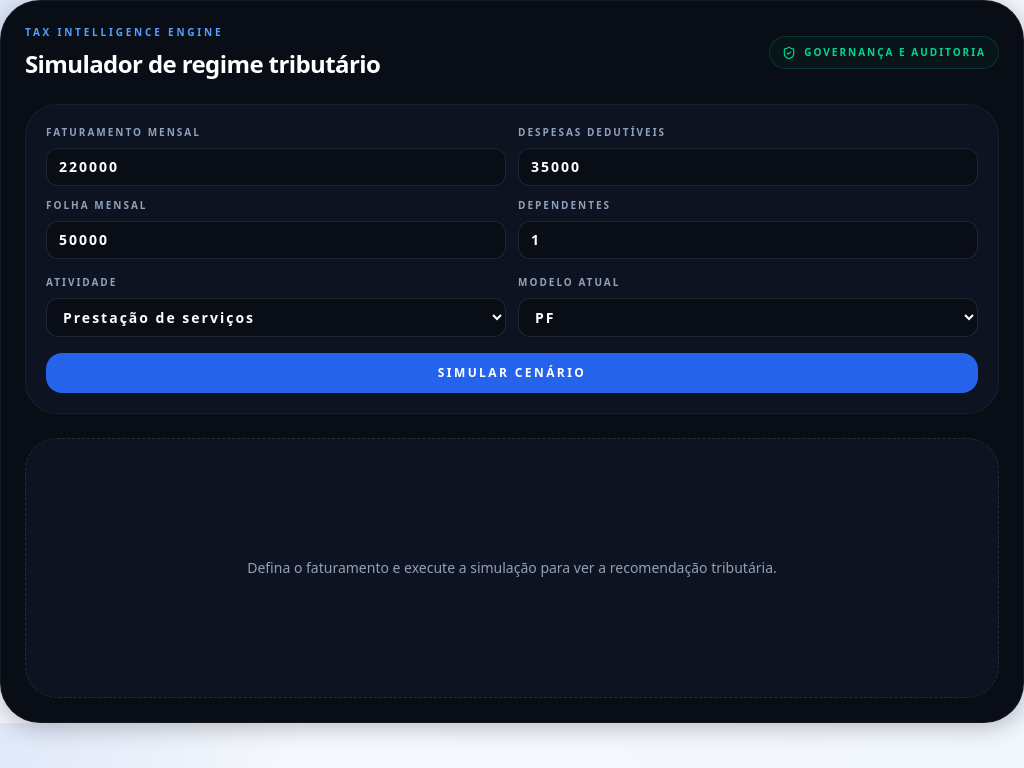
TaxScenarioSimulator › exibe manifesto legal quando a API retorna rastreabilidade normativa
This screenshot has width=1024, height=768.
Step 1. Click the button "Simular cenário" → (512, 373), box [46, 353, 978, 393]
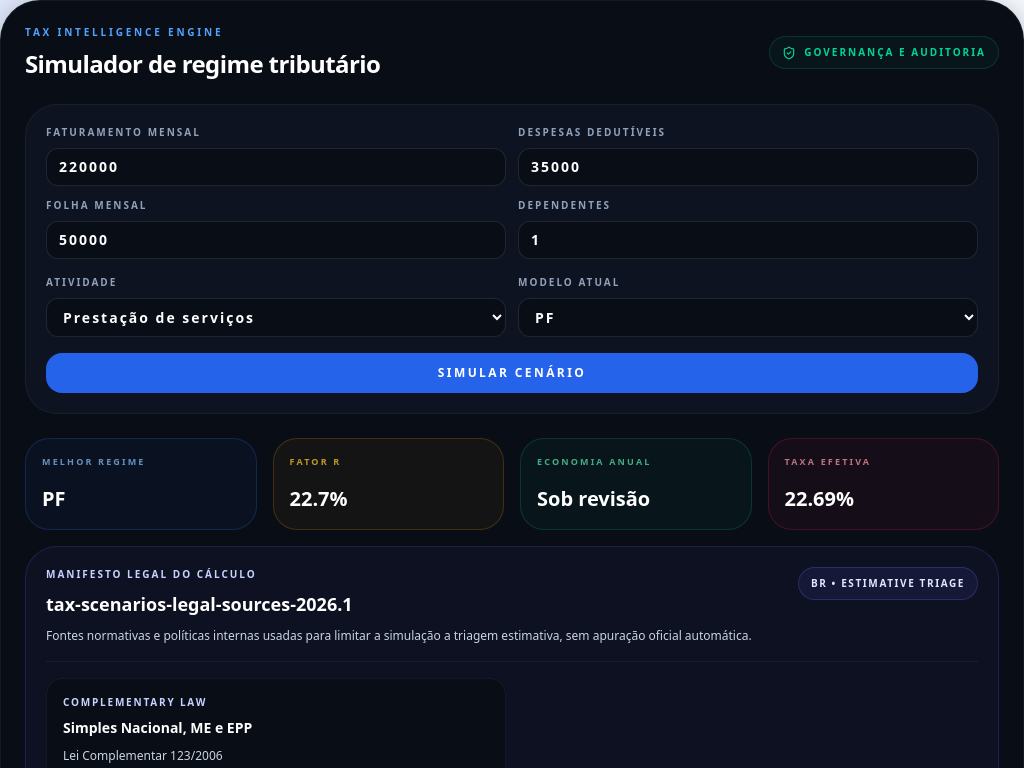
expect the text "Manifesto legal do cálculo" is shown: met, box [46, 566, 257, 580]
expect the heading "tax-scenarios-legal-sources-2026.1" is shown: met, box [46, 592, 353, 616]
expect the text "Lei Complementar 123/2006" is shown: met, box [63, 747, 223, 764]
